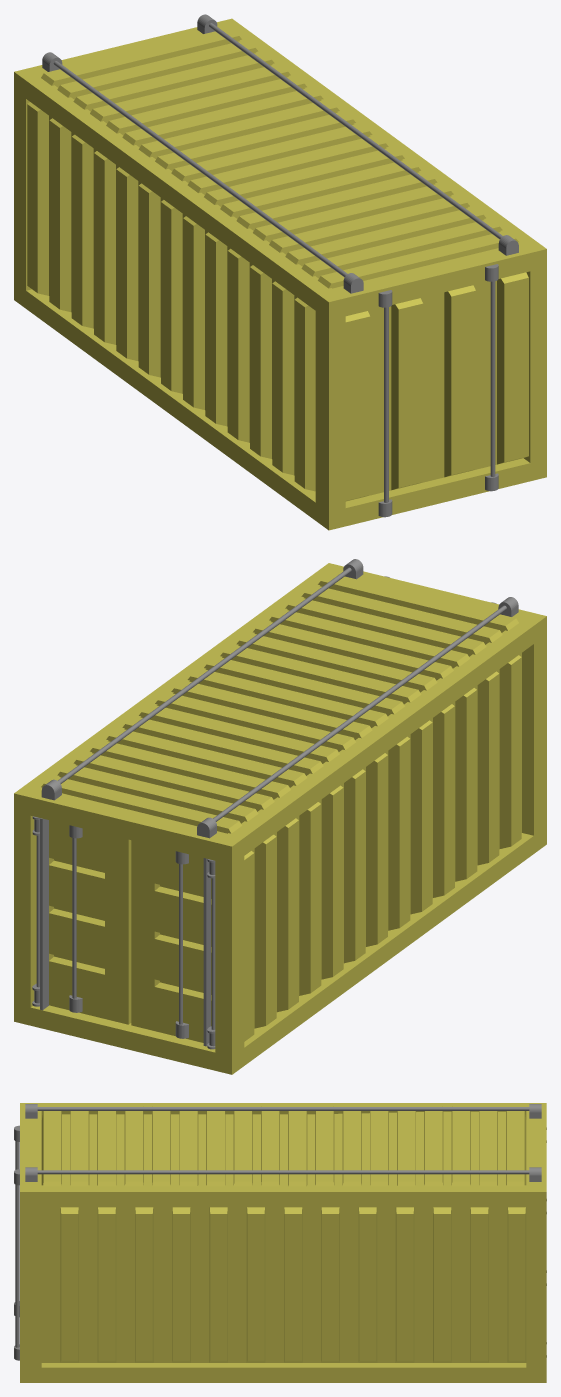
Rendered from ContainerKuning.fbx.
The picture shows the model from 3 angles, top to bottom: view 1: azimuth 30°, elevation 25°; view 2: azimuth 150°, elevation 25°; view 3: azimuth 270°, elevation 25°; orthographic projection. The views are drawn at different scales.
Visible parts, largest first — view 1: CountainerKuning; view 2: CountainerKuning; view 3: CountainerKuning.
Boxes of the visible parts, x1,y1,x2,y2 form: CountainerKuning: (14,14,546,530); CountainerKuning: (14,559,546,1074); CountainerKuning: (14,1103,546,1382).
Size of the model in its own units: 604 by 640 by 1528.
